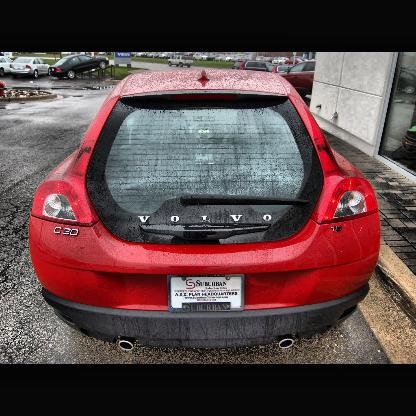Volvo C30 Hatchback 2012: (30, 69, 383, 354)
